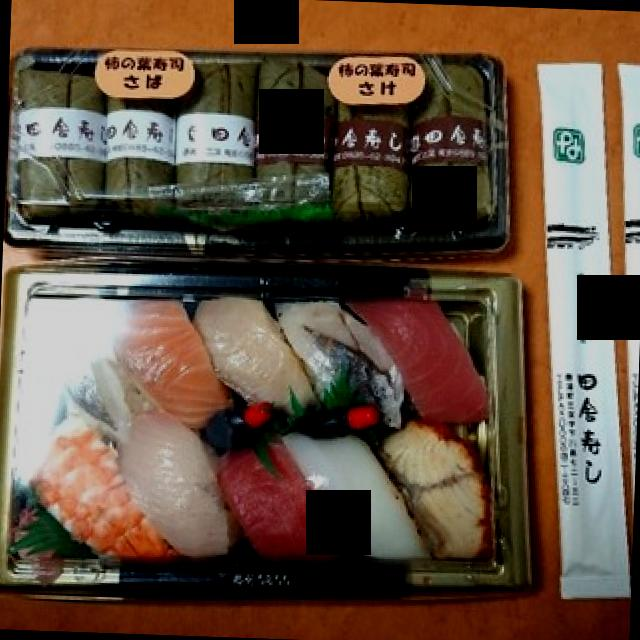sushi: (7, 273, 533, 597), (7, 49, 512, 254)
